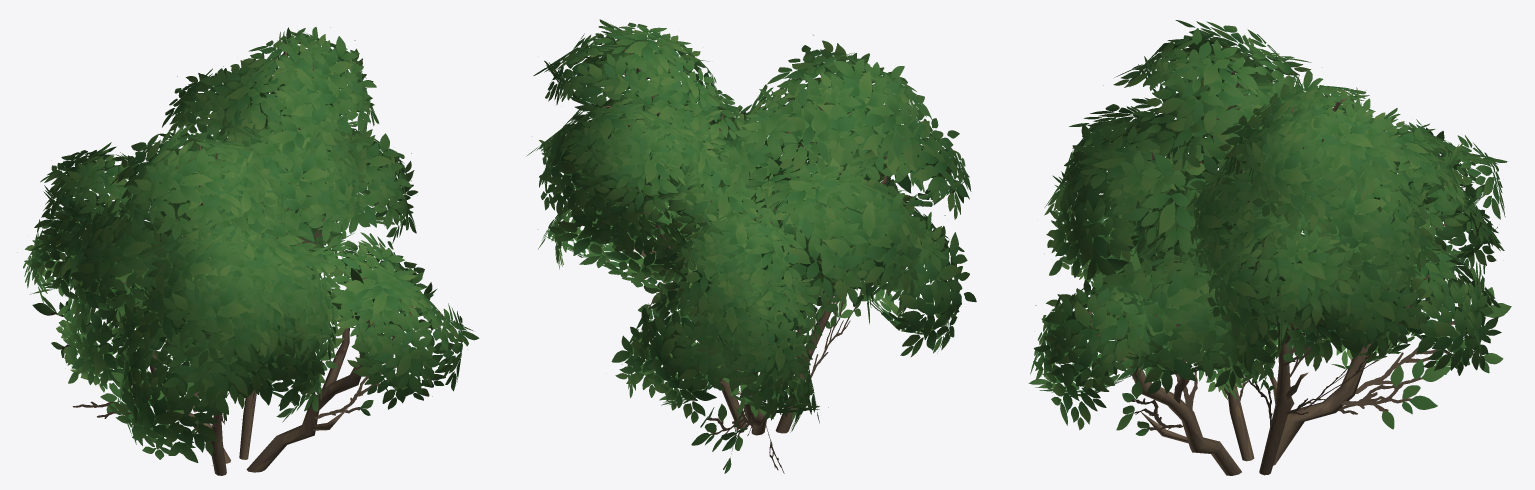
File: SM_FW01_Bush_02.fbx
3 renders of one model, left to right at view 1: azimuth 30°, elevation 25°; view 2: azimuth 150°, elevation 25°; view 3: azimuth 270°, elevation 25°, orthographic. The views are drawn at different scales.
Visible parts, largest first — view 1: SM_FW01_Bush_02_LOD0; view 2: SM_FW01_Bush_02_LOD0; view 3: SM_FW01_Bush_02_LOD0.
Boxes of the visible parts, x1,y1,x2,y2 form: SM_FW01_Bush_02_LOD0: [17, 27, 479, 475]; SM_FW01_Bush_02_LOD0: [526, 19, 976, 473]; SM_FW01_Bush_02_LOD0: [1028, 20, 1511, 475].
Size of what is drawn, in the model's own units: 2.62 by 2.57 by 2.69.
